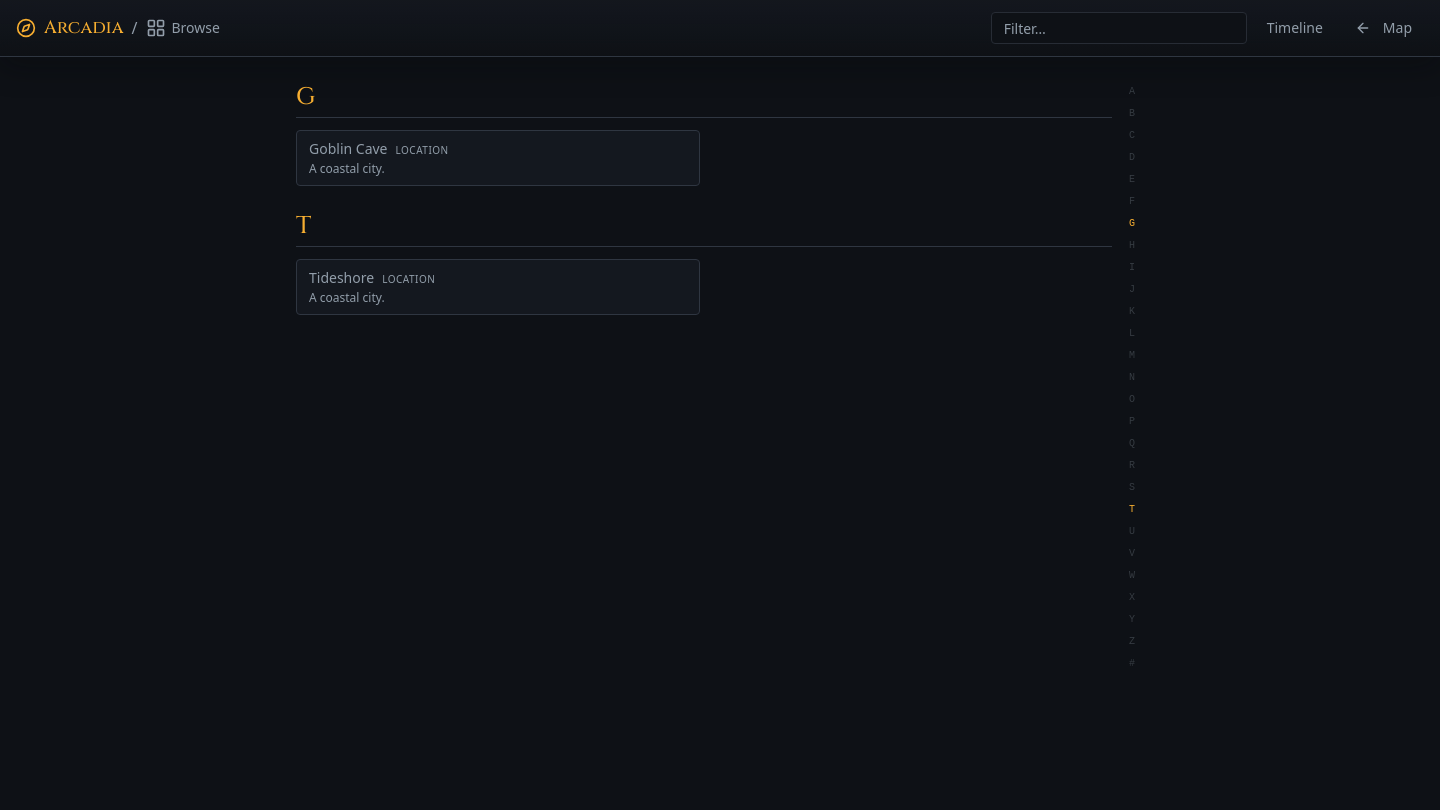
Test case: AtlasBrowse — URL filter state › updates the URL without disrupting the filter when query changes
The width and height of the screenshot is (1440, 810).
Type "Goblin" into the field with placeholder "Filter…" at [1119, 28], box x1=991 y1=12 x2=1247 y2=44
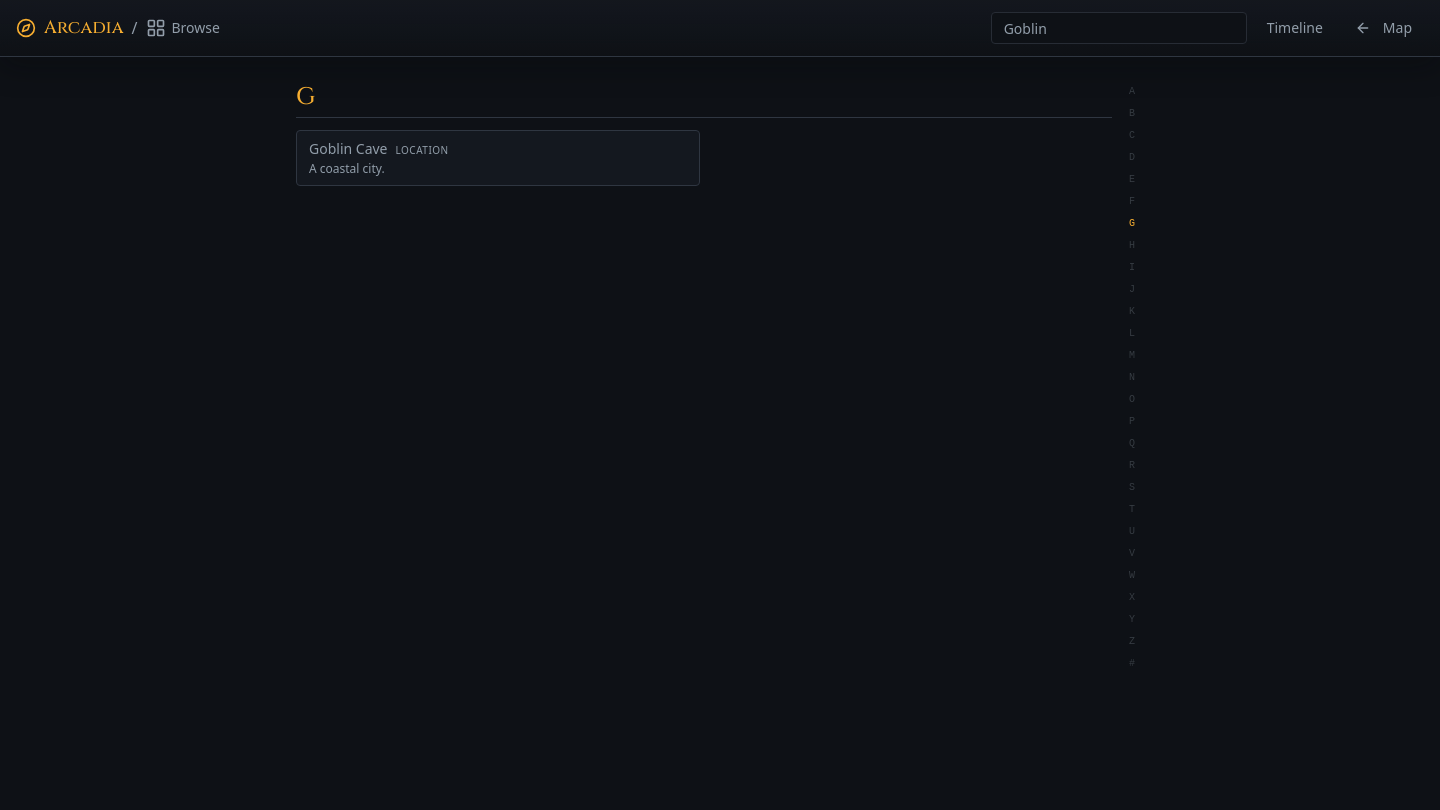
Expected: the link "Goblin Cave" is shown, x1=309 y1=139 x2=388 y2=159
Expected: the link "Tideshore" is gone
